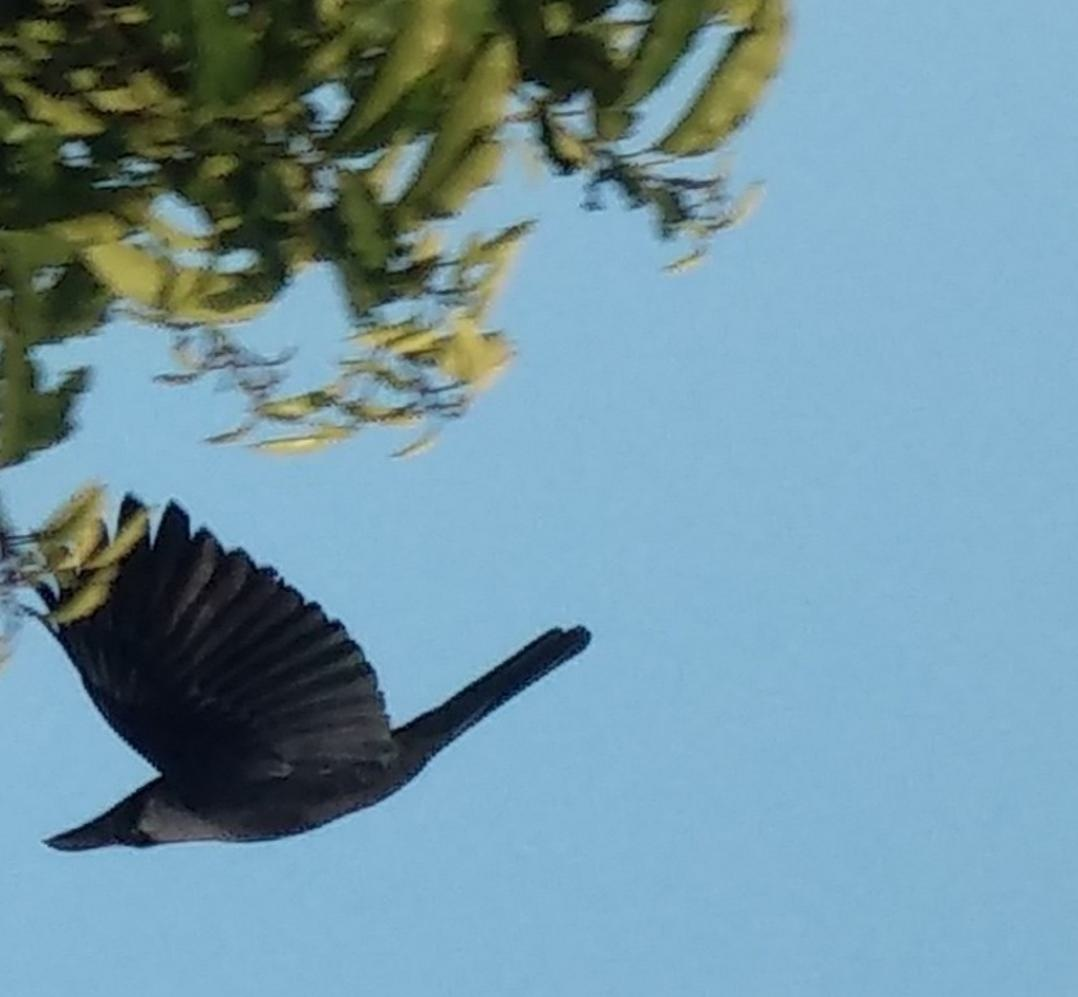crow: (25, 490, 605, 899)
